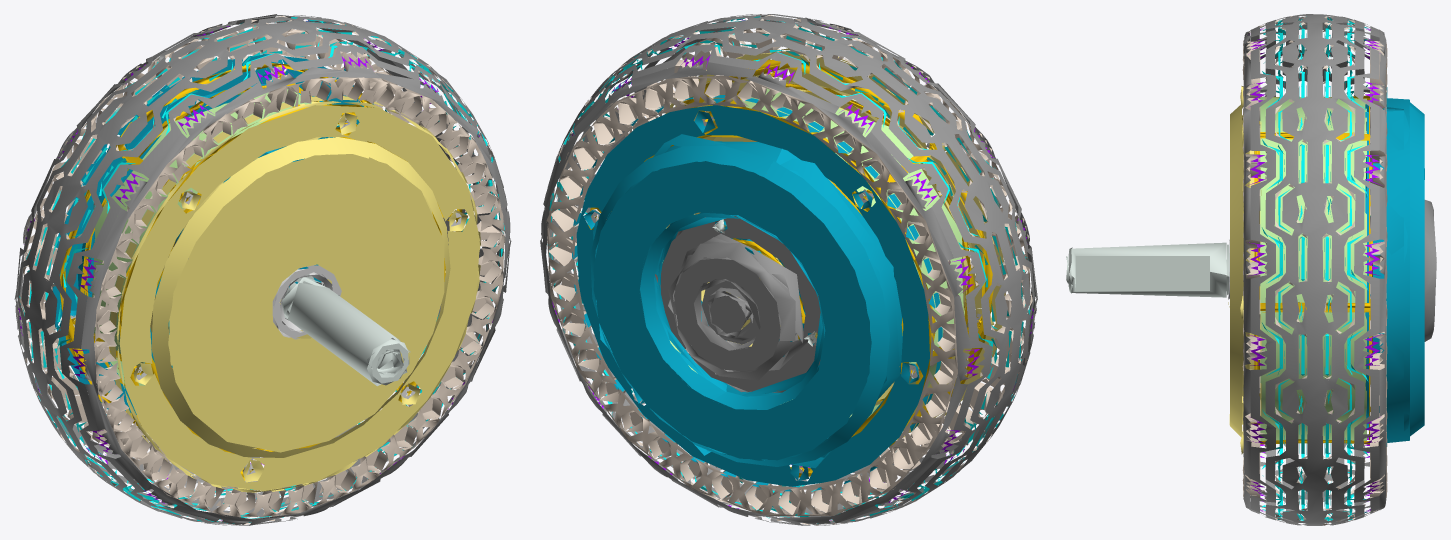
File: wheel.dae
3 renders of one model, left to right at view 1: azimuth 30°, elevation 25°; view 2: azimuth 150°, elevation 25°; view 3: azimuth 270°, elevation 25°, orthographic. The views are drawn at different scales.
Visible parts, largest first — view 1: Body1; view 2: Body1; view 3: Body1.
Part boxes in pixels (x1,y1,x2,y2): Body1: (14, 14, 511, 525); Body1: (540, 14, 1037, 525); Body1: (1066, 14, 1436, 525).
Bounding box in the file's own units: 0.1681 × 0.1216 × 0.168.
